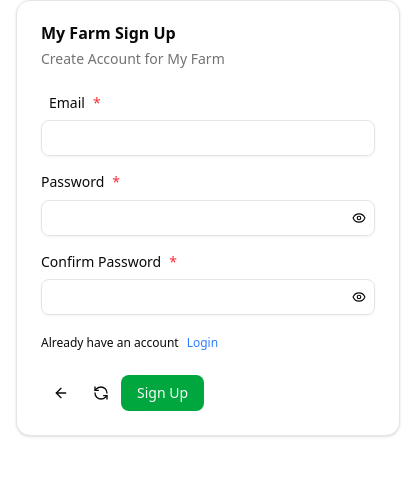
Reg Form Tests › check password mismatch
In the password field labelled "Password *": (193, 218) x1=42 y1=200 x2=344 y2=236, type "Test1test"
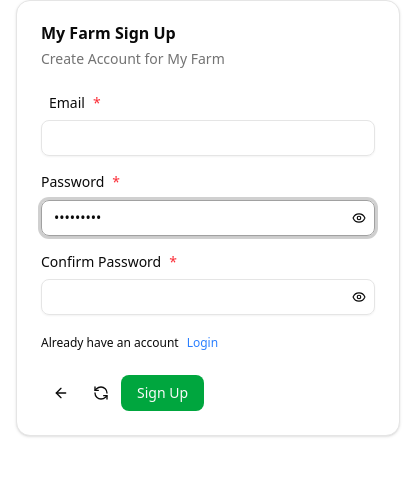
In the password field labelled "Confirm Password *": (193, 297) x1=42 y1=279 x2=344 y2=315, type "Test"
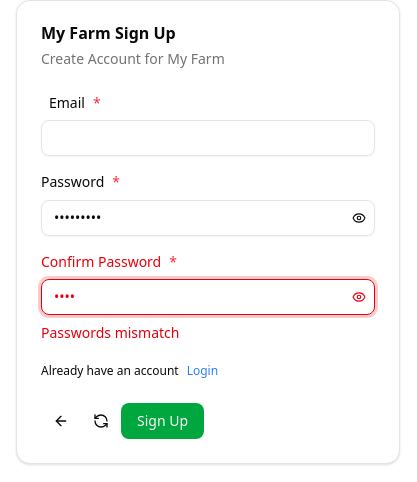
Now the text "Passwords mismatch" is shown, box x1=41 y1=323 x2=180 y2=342
In the password field labelled "Confirm Password *": (193, 297) x1=42 y1=279 x2=344 y2=315, type "1test"
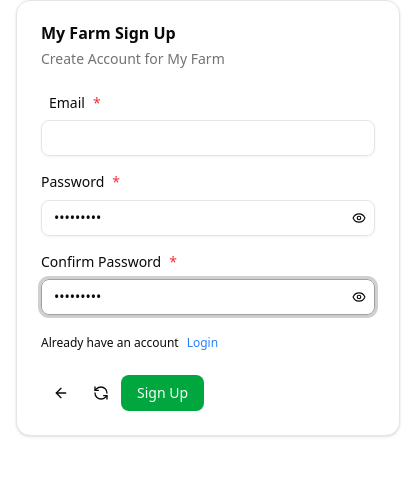
Now the text "Passwords mismatch" is gone
